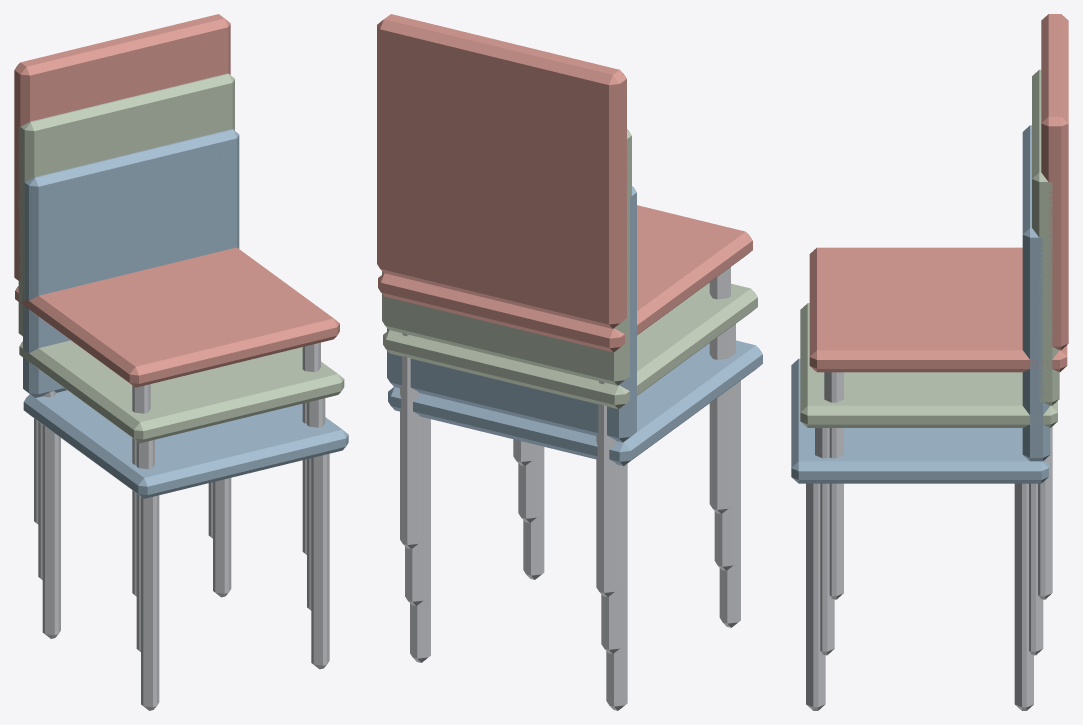
Rendered from StackableChairs_x3.glb.
The picture shows the model from 3 angles, left to right: view 1: azimuth 30°, elevation 25°; view 2: azimuth 150°, elevation 25°; view 3: azimuth 270°, elevation 25°; orthographic projection. The views are drawn at different scales.
Visible parts, largest first — view 1: SpaceSaver_StackableChairs_x3; view 2: SpaceSaver_StackableChairs_x3; view 3: SpaceSaver_StackableChairs_x3.
Boxes of the visible parts, bbox=[...] form: SpaceSaver_StackableChairs_x3: bbox=[14, 14, 348, 710]; SpaceSaver_StackableChairs_x3: bbox=[377, 14, 762, 710]; SpaceSaver_StackableChairs_x3: bbox=[791, 14, 1068, 710].
Bounding box in the file's own units: 0.42 × 1.08 × 0.4525.
